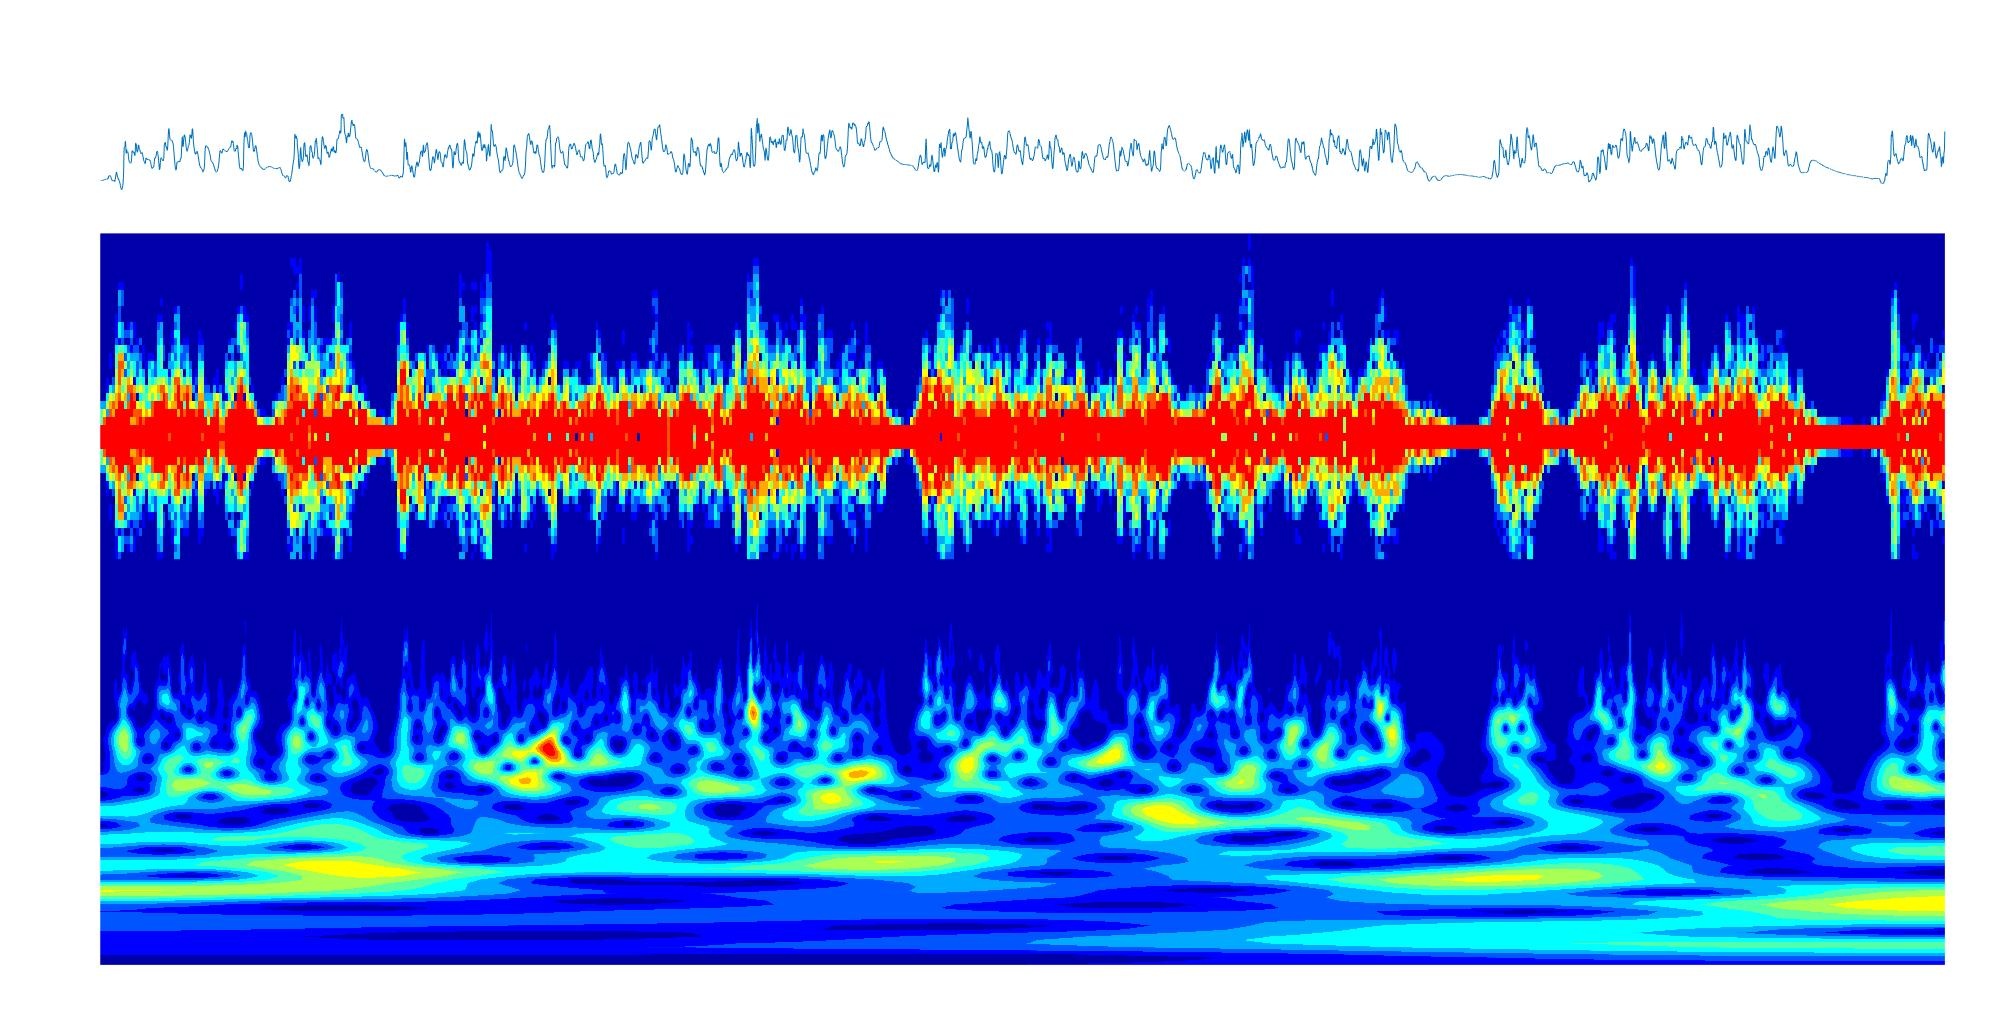TURBULENT: (392, 235, 886, 965), (922, 235, 1173, 965), (1578, 235, 1800, 963), (1206, 235, 1399, 963), (102, 235, 256, 965), (284, 235, 356, 967), (1883, 235, 1943, 963), (1493, 232, 1540, 962)
